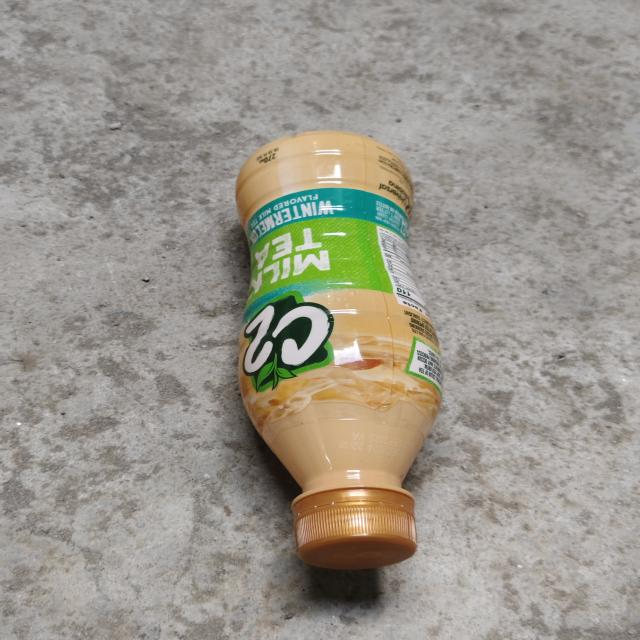Bottle: (236, 131, 443, 569)
